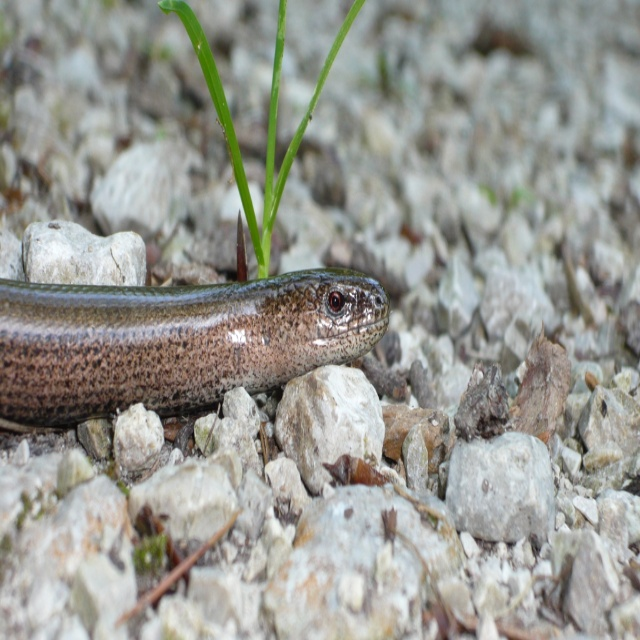Snake: (0, 267, 391, 426)
